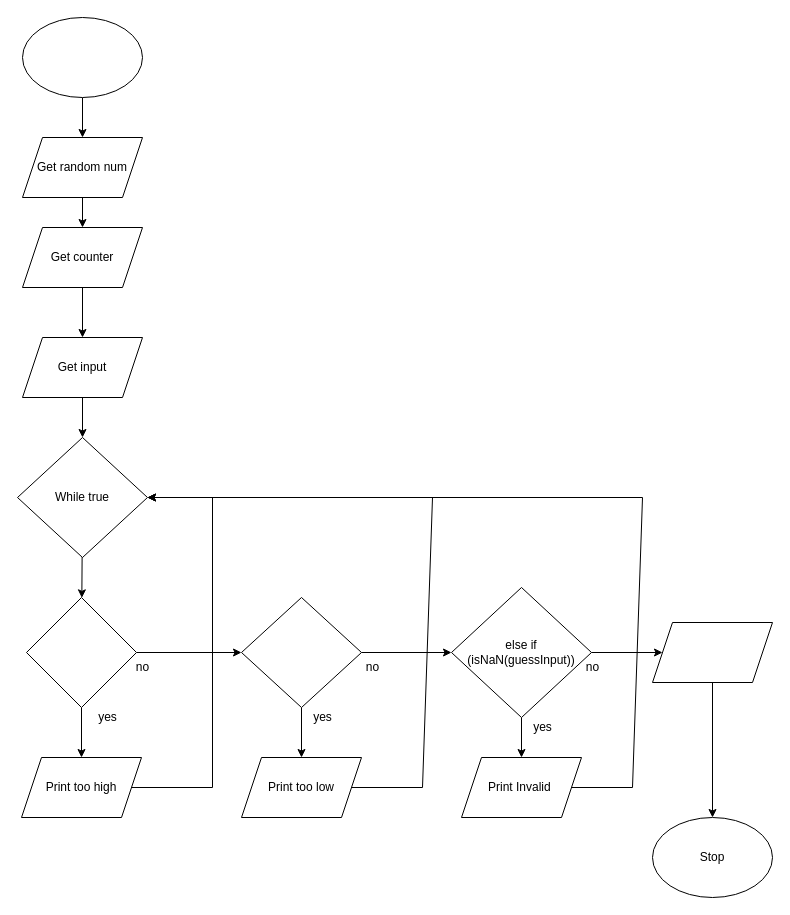
The diagram is 790 pixels wide and 915 high, and some of its shapes have lost their labels. Each missing label, with the box of its shape:
else if (guessInput < randomNumber): (240, 596, 362, 708)
if (guessInput > randomNumber): (26, 596, 136, 708)
Print Correct: (652, 622, 772, 682)
Start: (22, 16, 142, 98)
